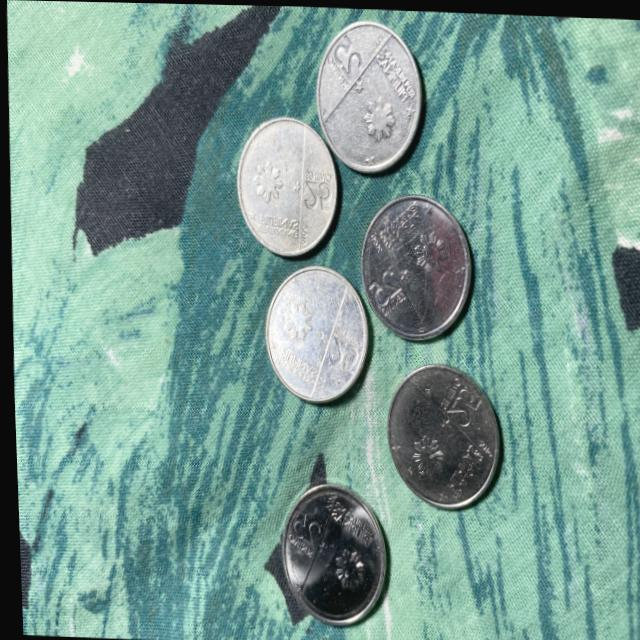25Cent_New_Front: (441, 382, 476, 425), (330, 34, 363, 76), (322, 334, 356, 370), (286, 508, 316, 547), (365, 266, 397, 301), (301, 179, 329, 210)
